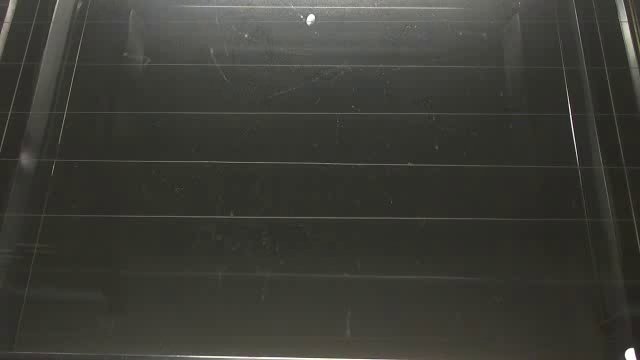Alfa: (304, 13, 316, 27)
